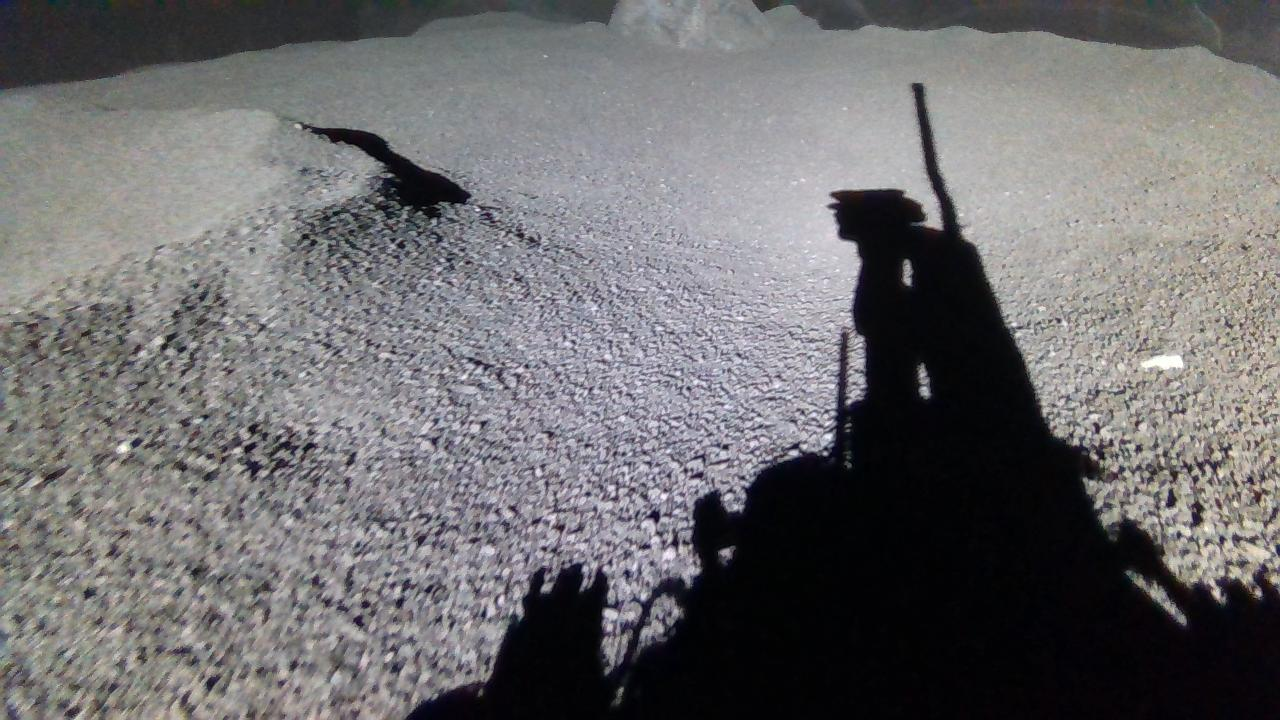rock: (610, 0, 773, 49)
